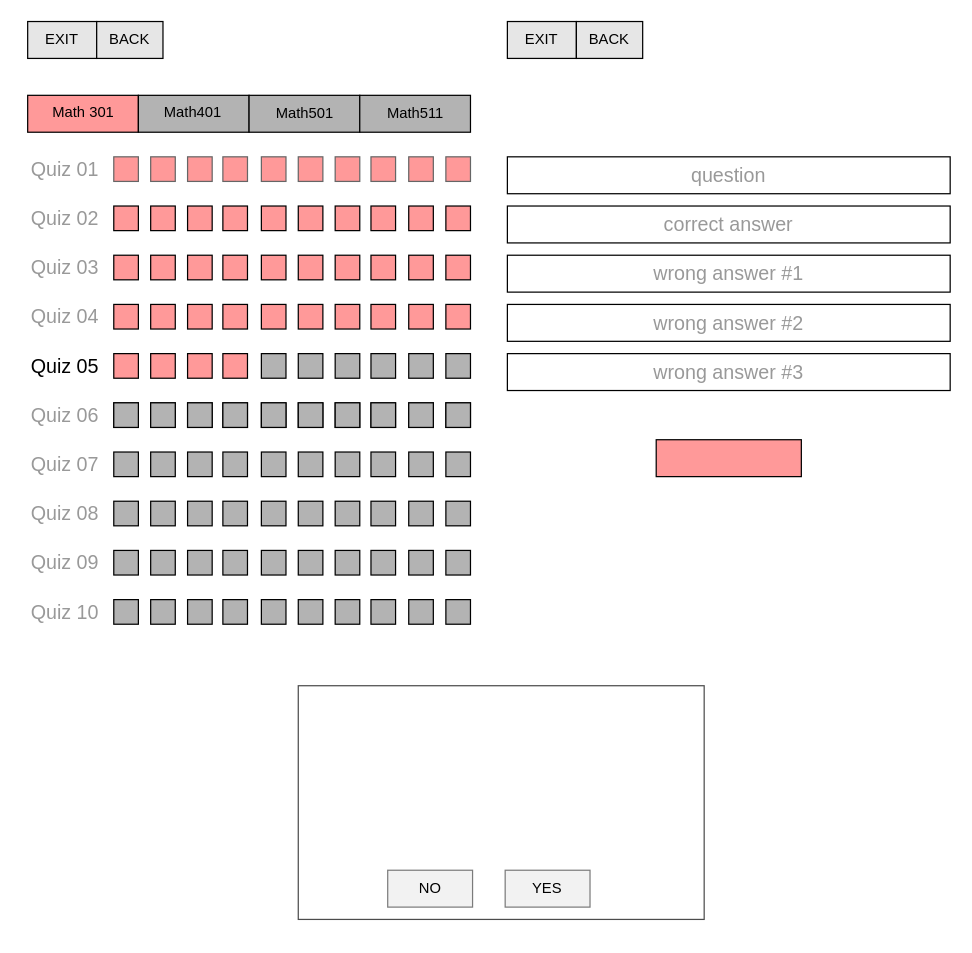
Some shapes in this 972 by 953 pixel diagram are drawn without their labels. Each missing label, with the box of its shape:
ADD / SAVE: (655, 438, 801, 477)
YOUR QUESTION HASN'T BEEN SAVED. DO YOU WISH TO CONTINUE?: (297, 684, 704, 919)
